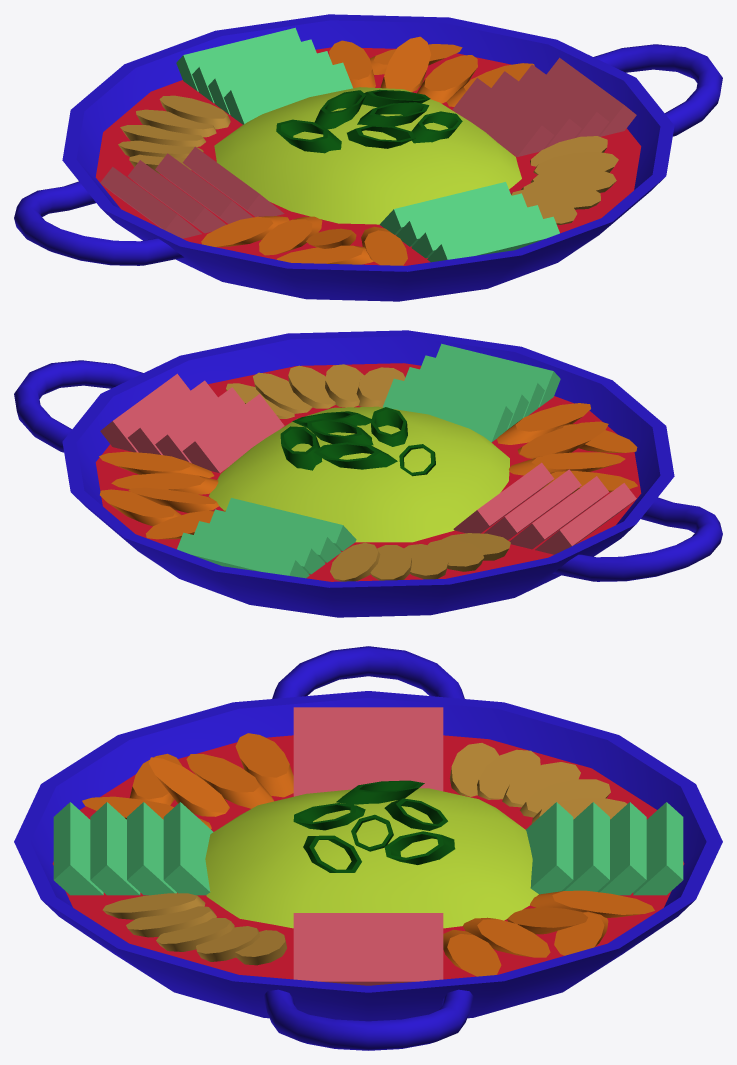
The model's file is Budae jjigae.fbx.
3 renders of one model, top to bottom at view 1: azimuth 30°, elevation 25°; view 2: azimuth 150°, elevation 25°; view 3: azimuth 270°, elevation 25°, orthographic. The views are drawn at different scales.
Parts seen in each view (by area): view 1: Budae jjigae; view 2: Budae jjigae; view 3: Budae jjigae.
Boxes of the visible parts, <box> form: Budae jjigae: <box>14,14,722,301</box>; Budae jjigae: <box>14,330,722,617</box>; Budae jjigae: <box>14,646,722,1050</box>.
Size of the model in its own units: 58.05 by 44.88 by 9.96.
